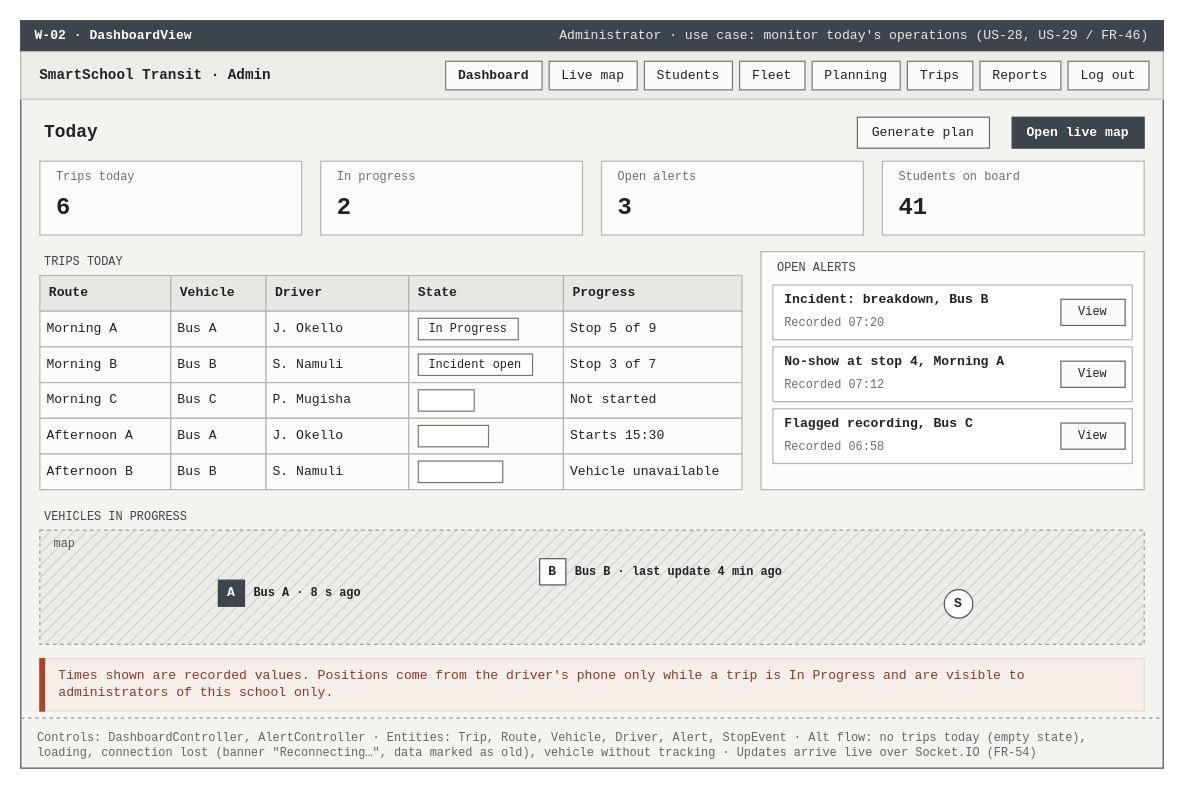
Some shapes in this 1185 by 789 pixel diagram are drawn without their labels. The box of each missing label's shape, as (x1, y1, x2, y2) in pixels:
Cancelled: (417, 460, 503, 483)
Planned: (417, 424, 488, 447)
Ready: (417, 389, 474, 411)
